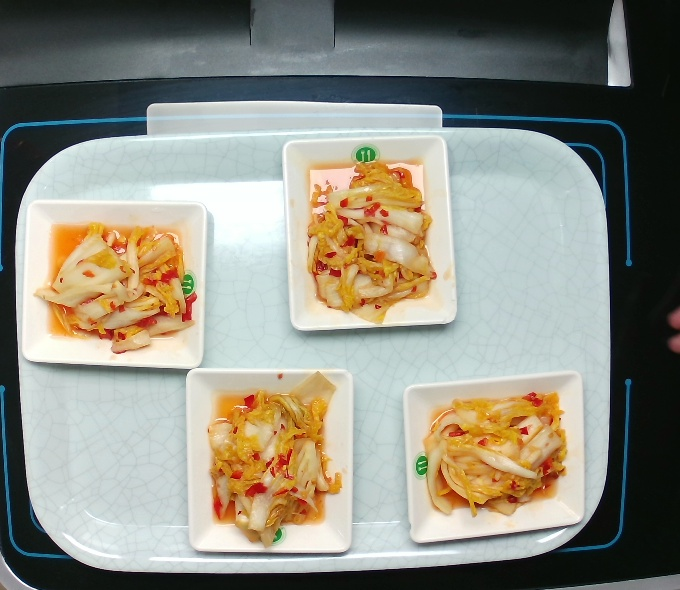wcq-SuanLaBaiCai: (305, 146, 437, 321), (34, 217, 200, 356), (203, 384, 345, 545), (427, 392, 569, 518)
